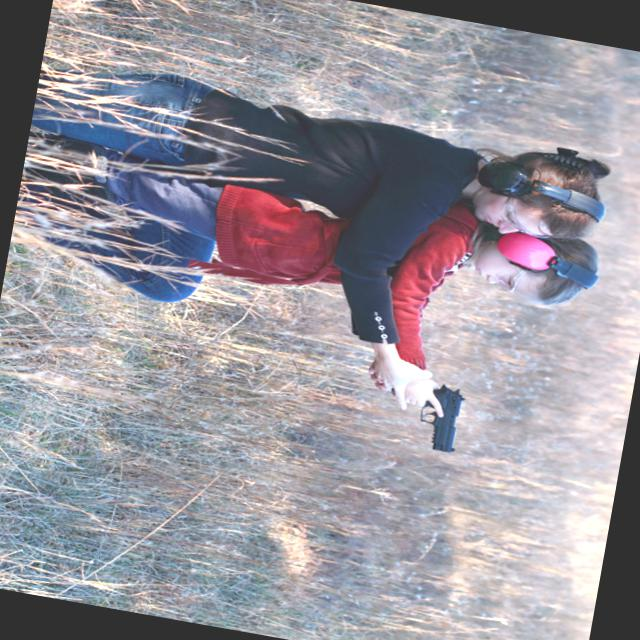handgun: (366, 369, 476, 456)
